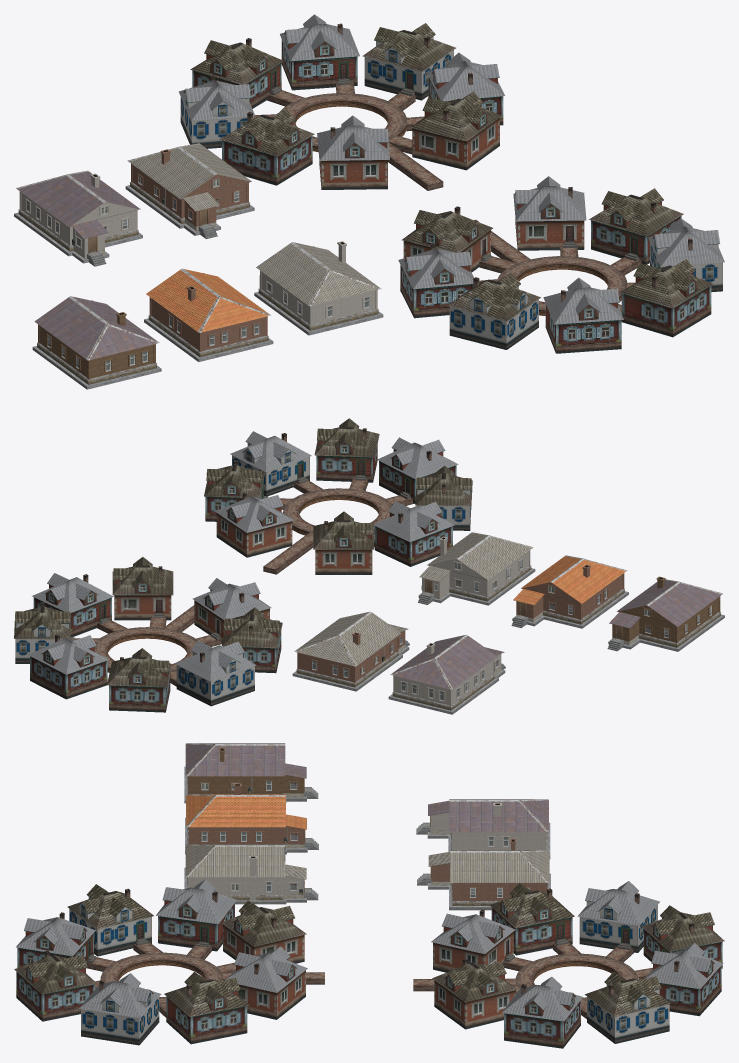
The model's file is VolgarStreet.fbx_集合_2.fbx.
3 views of the same model, one above another, from view 1: azimuth 30°, elevation 25°; view 2: azimuth 150°, elevation 25°; view 3: azimuth 270°, elevation 25° (orthographic). The views are drawn at different scales.
Visible parts, largest first — view 1: House3, House2.006, House2.002, House2.001, House2.004, House2.005; view 2: House3, House2.004, House2.005, House2.006, House2.002, House2.001; view 3: House3, House2.006, House2.001, House2.004, House2.002, House2.005.
Boxes of the visible parts, bbox=[...] form: House3: bbox=[178, 14, 724, 353]; House2.006: bbox=[254, 241, 383, 335]; House2.002: bbox=[32, 296, 161, 389]; House2.001: bbox=[144, 268, 273, 361]; House2.004: bbox=[14, 170, 142, 266]; House2.005: bbox=[125, 143, 254, 238]; House3: bbox=[14, 418, 472, 712]; House2.004: bbox=[388, 634, 505, 714]; House2.005: bbox=[292, 611, 409, 691]; House2.006: bbox=[418, 532, 535, 605]; House2.002: bbox=[607, 576, 724, 651]; House2.001: bbox=[511, 555, 628, 628]; House3: bbox=[14, 879, 724, 1048]; House2.006: bbox=[184, 844, 318, 904]; House2.001: bbox=[185, 783, 318, 854]; House2.004: bbox=[416, 799, 550, 858]; House2.002: bbox=[184, 743, 318, 803]; House2.005: bbox=[417, 839, 550, 910].
Size of the model in its own units: 8538 by 648 by 7861.
2 materials, 2 textured.
